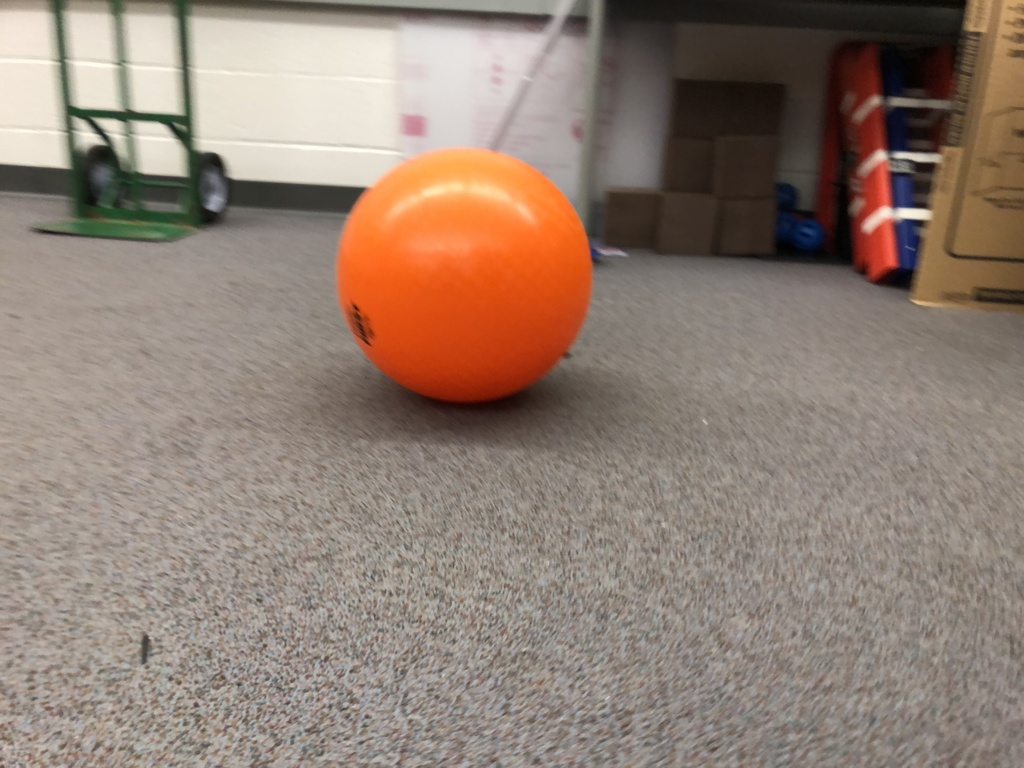cargo: (333, 143, 598, 411)
